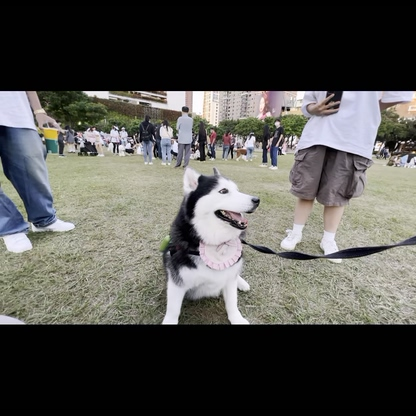husky: (153, 164, 264, 321)
